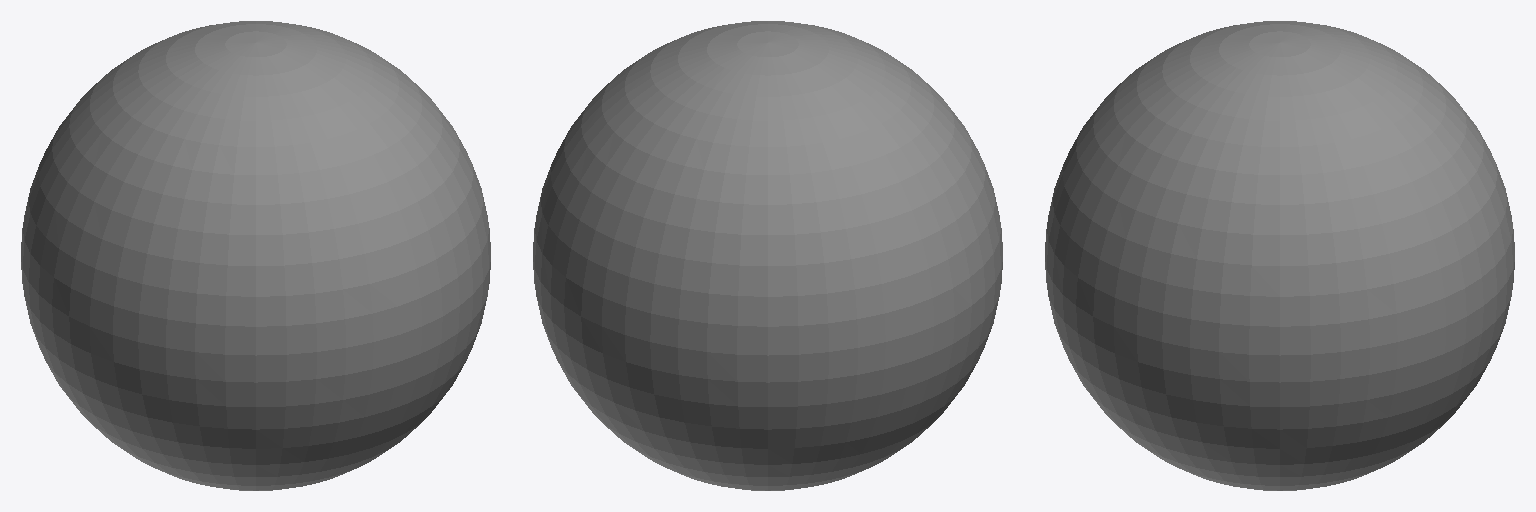
File: planet.obj
The picture shows the model from 3 angles: view 1: azimuth 30°, elevation 25°; view 2: azimuth 150°, elevation 25°; view 3: azimuth 270°, elevation 25°; orthographic projection.
Parts seen in each view (by area): view 1: Planet_001; view 2: Planet_001; view 3: Planet_001.
Part boxes in pixels (bbox=[...]): Planet_001: bbox=[21, 21, 490, 490]; Planet_001: bbox=[533, 21, 1002, 490]; Planet_001: bbox=[1045, 21, 1514, 490].
Size of the model in its own units: 1 by 1 by 1.